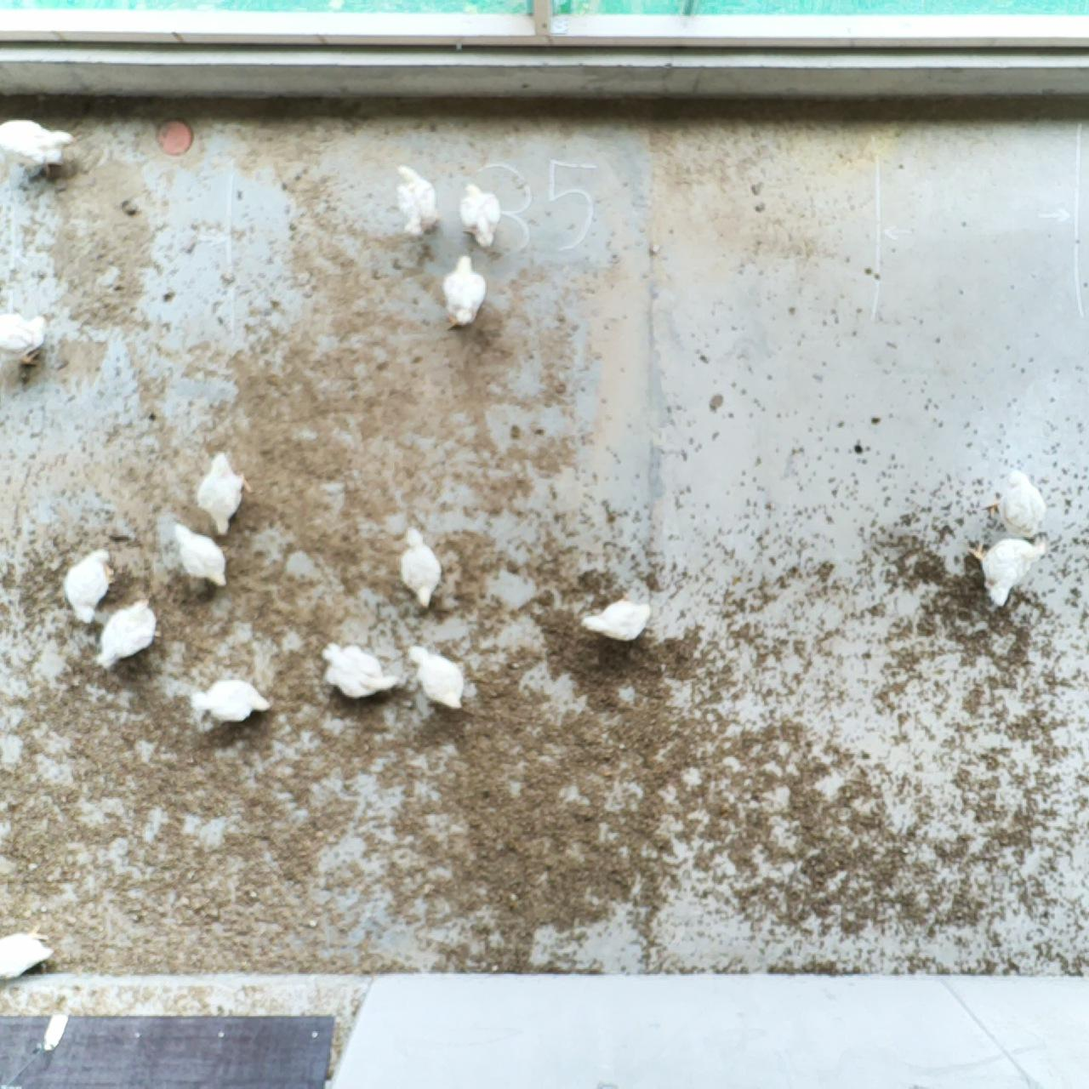chicken: (970, 531, 1054, 609), (317, 638, 401, 699), (984, 469, 1050, 545), (94, 597, 163, 669), (197, 450, 252, 537), (0, 118, 79, 178), (407, 642, 469, 713), (61, 544, 116, 624), (168, 519, 230, 589), (397, 526, 445, 613), (190, 676, 273, 724), (440, 252, 490, 331), (394, 163, 444, 238), (579, 595, 656, 643), (457, 179, 504, 249), (0, 307, 52, 369), (0, 923, 54, 981)
